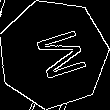M_W: (22, 24, 84, 84)
